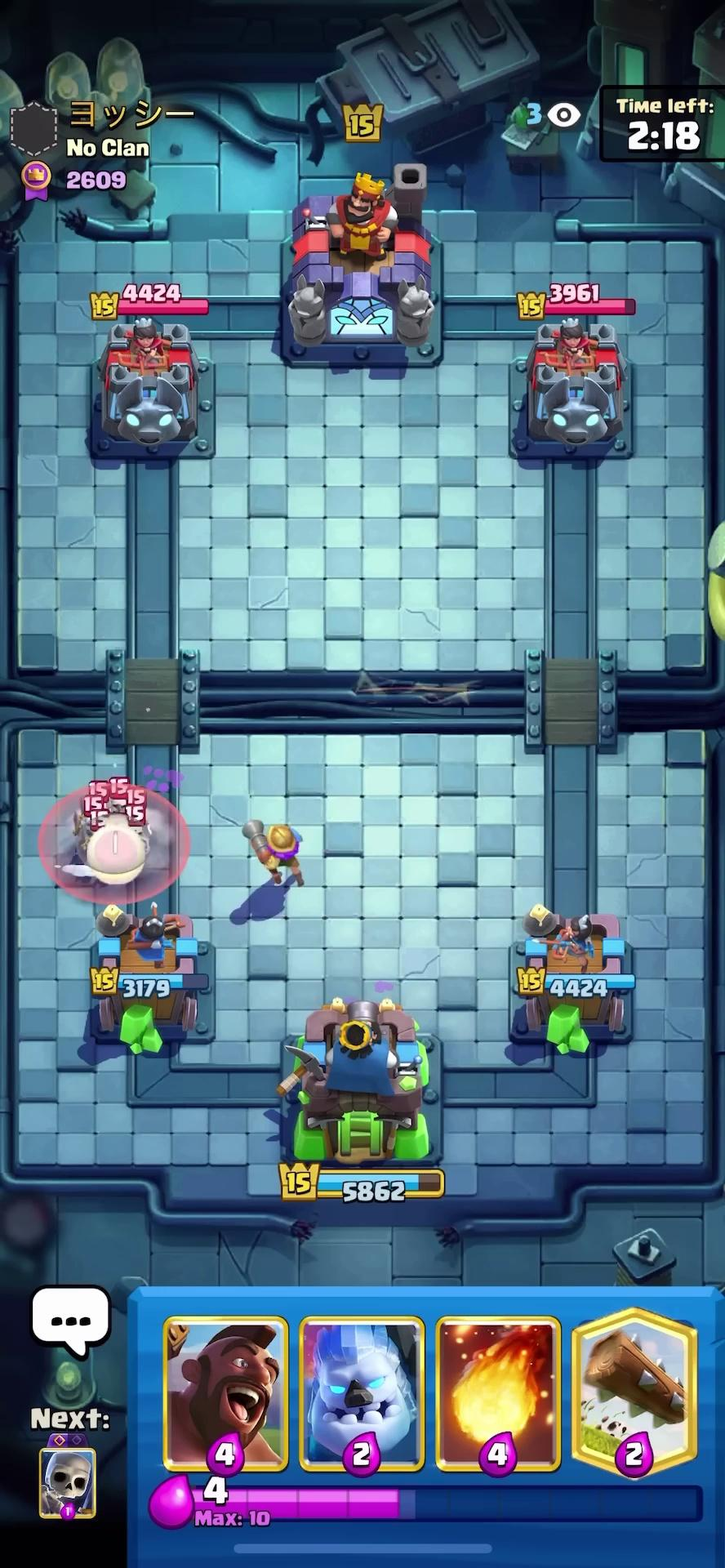musketeer: (229, 798, 314, 890)
